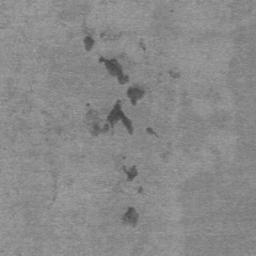Iron scale compression: (90, 100, 133, 136), (100, 57, 131, 84), (127, 86, 144, 105), (121, 208, 138, 227), (124, 163, 138, 182), (83, 37, 94, 50), (147, 127, 160, 138)
